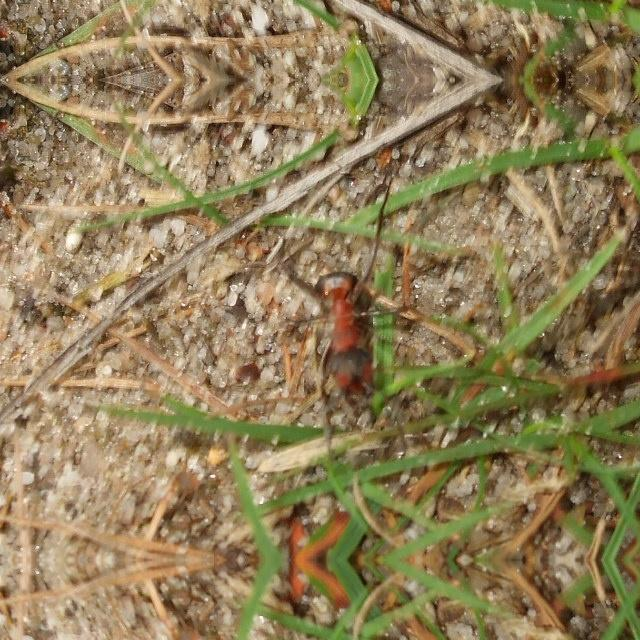Formica: (271, 248, 425, 414)
